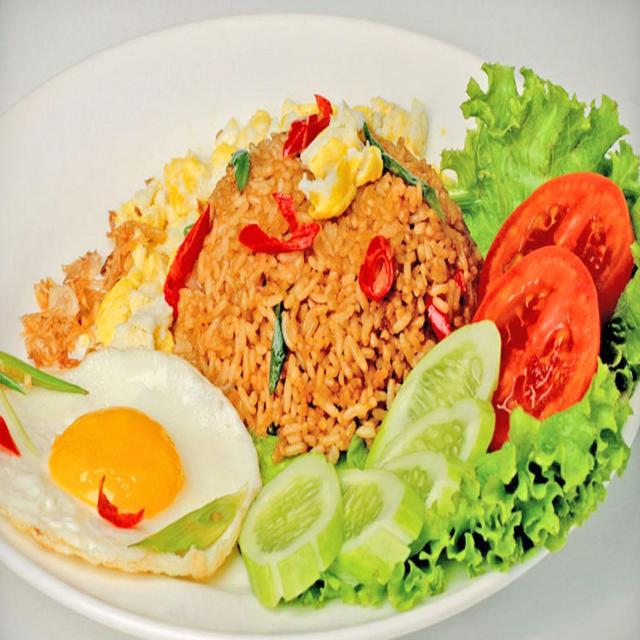Nasi Goreng: (154, 122, 493, 476)
